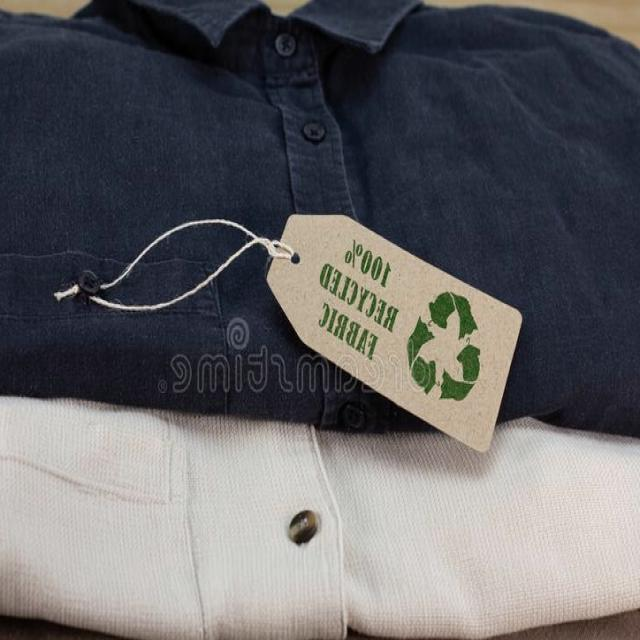clothes: (104, 137, 510, 623)
